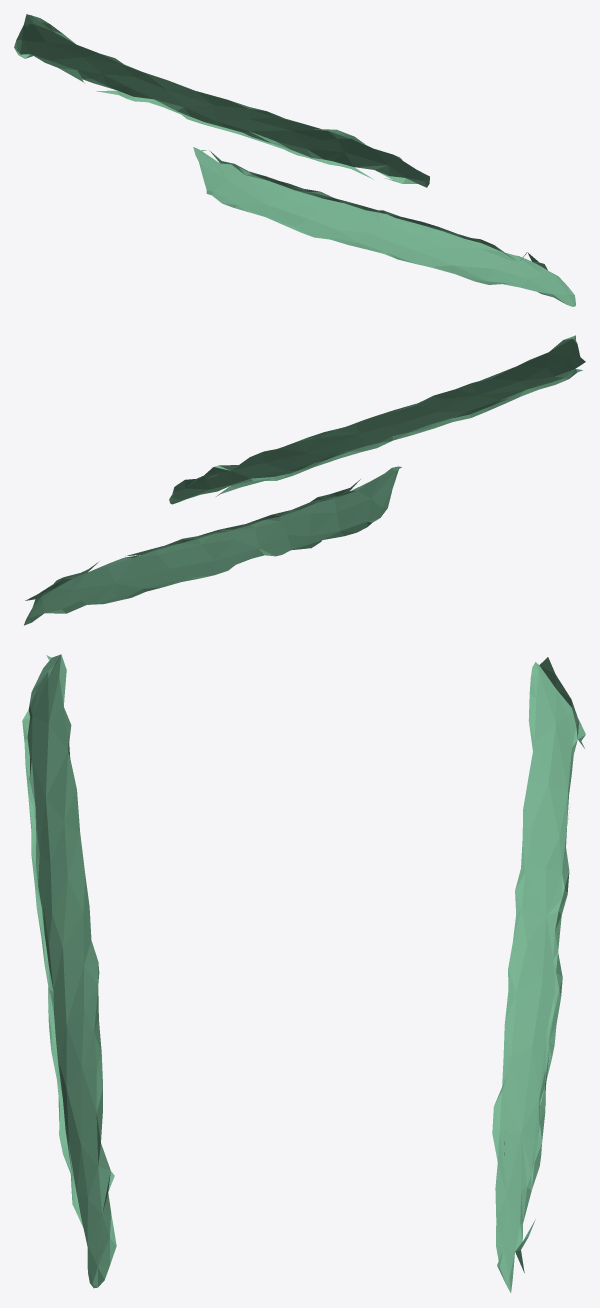
The picture shows the model from 3 angles, top to bottom: view 1: azimuth 30°, elevation 25°; view 2: azimuth 150°, elevation 25°; view 3: azimuth 270°, elevation 25°; orthographic projection. The views are drawn at different scales.
Visible parts, largest first — view 1: 819.obj; view 2: 819.obj; view 3: 819.obj.
Part boxes in pixels (<box>): 819.obj: <box>14,14,575,306</box>; 819.obj: <box>24,335,585,625</box>; 819.obj: <box>22,654,585,1292</box>.
Bounding box in the file's own units: 1923 × 1235 × 1710.
